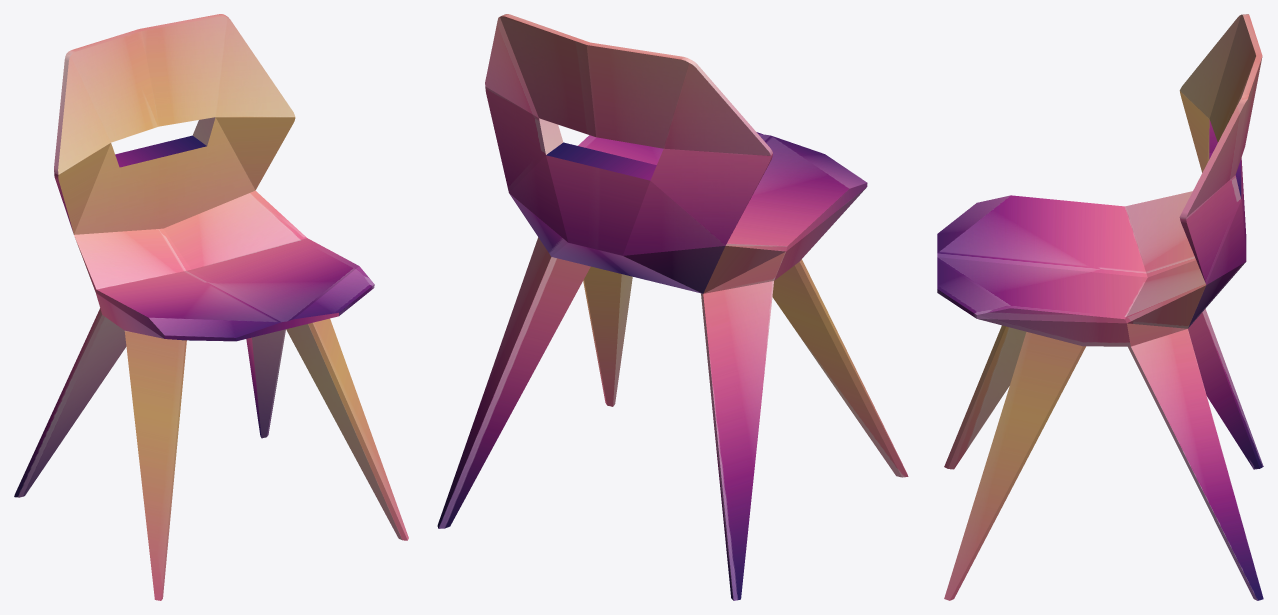
File: chair-model-09.glb
3 views of the same model, side by side, from view 1: azimuth 30°, elevation 25°; view 2: azimuth 150°, elevation 25°; view 3: azimuth 270°, elevation 25° (orthographic). The views are drawn at different scales.
Parts seen in each view (by area): view 1: 11.009; view 2: 11.009; view 3: 11.009.
Part boxes in pixels (<box>): 11.009: <box>14,14,408,600</box>; 11.009: <box>437,14,908,600</box>; 11.009: <box>937,14,1263,600</box>.
Size of the model in its own units: 3.13 by 5.14 by 3.18.
1 material, 1 textured.
